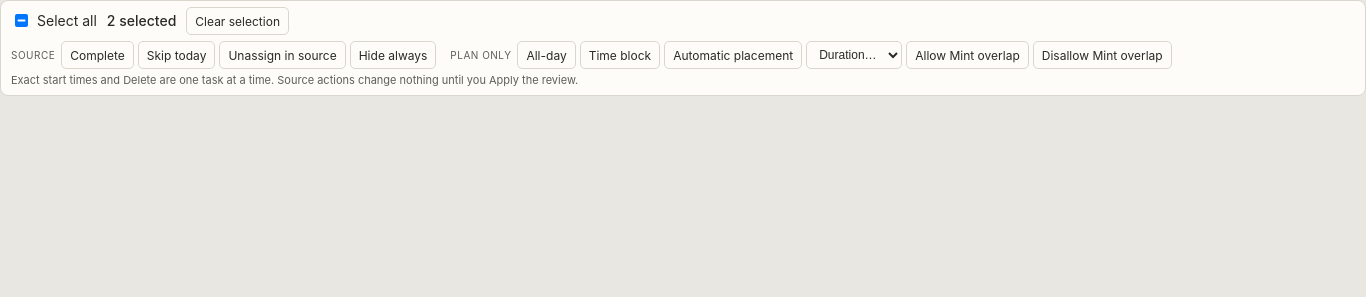
Test: results, retry, and undo › refused and failed results › mixed done and refused is failure-styled, counts both, keeps Undo, no Retry
The width and height of the screenshot is (1366, 297).
Step 1. Click the button "Complete" → (98, 55), box x1=61 y1=41 x2=134 y2=69
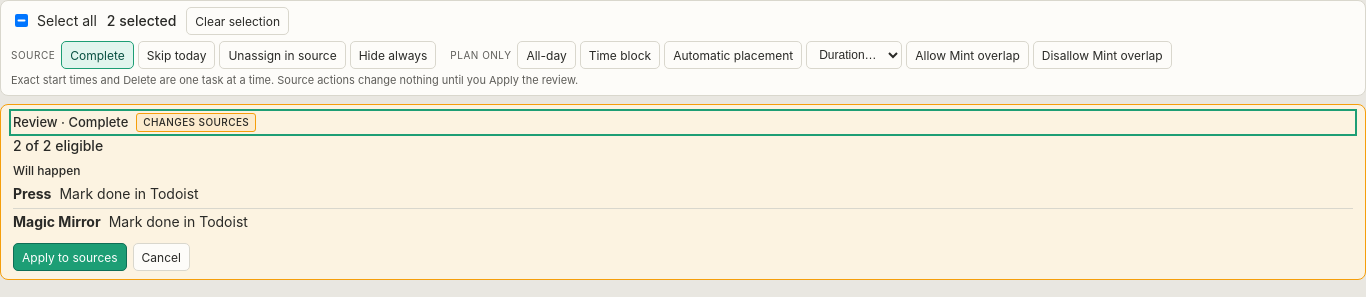
Step 2. Click the button "Apply to sources" → (70, 257), box x1=13 y1=243 x2=127 y2=271
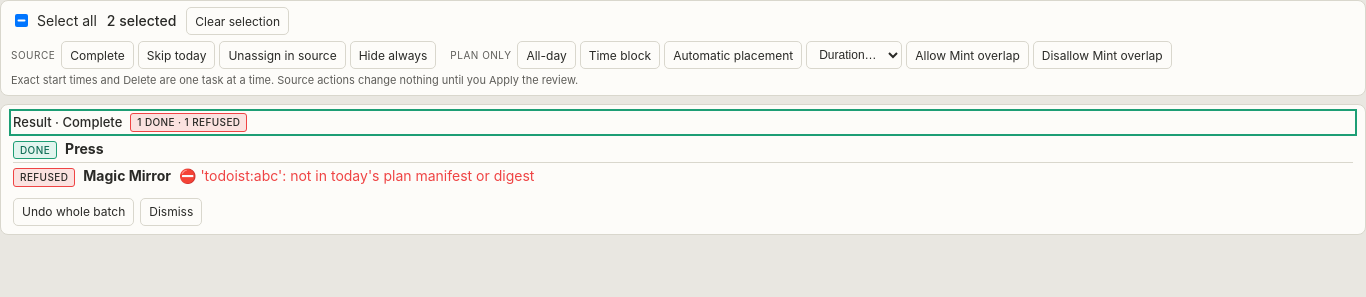
Check: the text with class "batch-chip" reads "1 done · 1 refused", box x1=137 y1=116 x2=240 y2=128
Check: the text with class "batch-panel__fail" reads "⛔ 'todoist:abc': not in today's plan manifest or digest", box x1=179 y1=167 x2=534 y2=184
